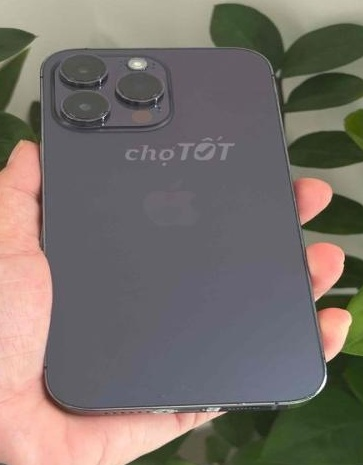physical_damage: (233, 397, 253, 407)
scratch: (159, 379, 194, 399)
